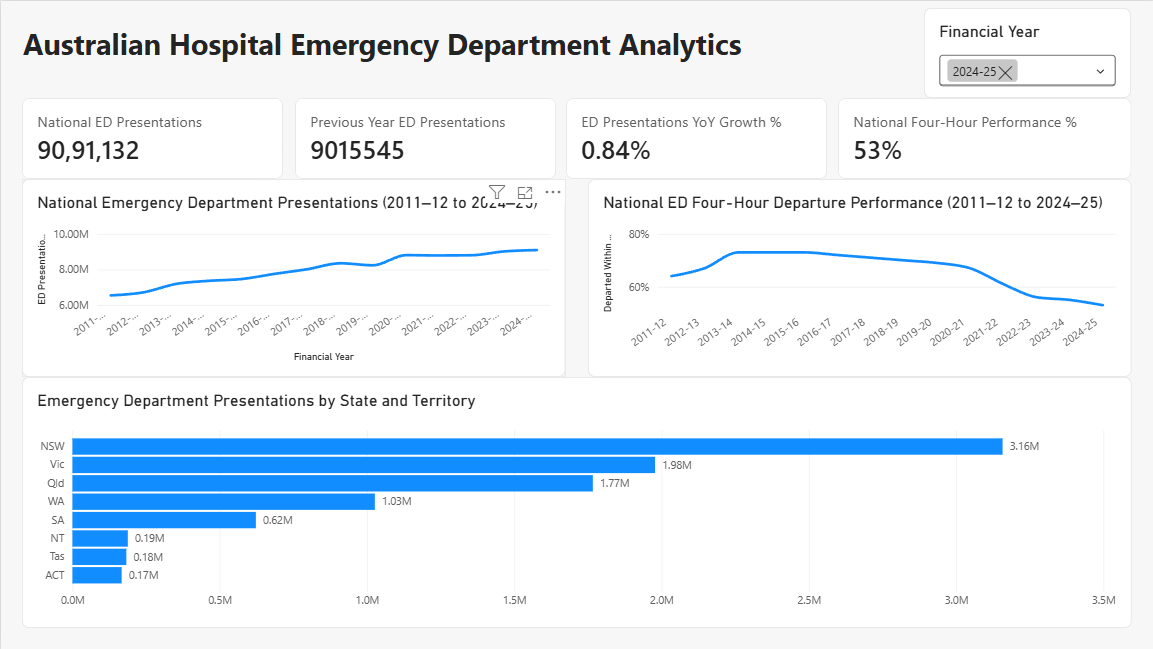

This screenshot's page, from the dashboard's own definition file:
{"tool":"powerbi","page":{"name":"ED Overview","canvas":[1280,720],"ordinal":0},"visuals":[{"type":"cardVisual","fields":{"Data":["ED_Presentations.National ED Presentations"]},"box":[23.8,107.5,290,90],"z":0},{"type":"listSlicer","fields":{"Values":["Dim_FinancialYear.Financial Year"]},"box":[1026,8,230,100],"z":1000},{"type":"cardVisual","fields":{"Data":["ED_Presentations.Previous Year ED Presentations"]},"box":[326.2,107.5,290,90],"z":2000},{"type":"cardVisual","fields":{"Data":["ED_Presentations.ED Presentations YoY Growth %"]},"box":[627.5,107.5,290,90],"z":3000},{"type":"lineChart","title":"National Emergency Department Presentations (2011–12 to 2024–25)","fields":{"Category":["Dim_FinancialYear.Financial Year"],"Y":["ED_Presentations.National ED Presentations"]},"box":[23.8,197.5,603.8,220],"z":4000},{"type":"clusteredBarChart","title":"Emergency Department Presentations by State and Territory","fields":{"Category":["ED_Presentations.state"],"Y":["ED_Presentations.State ED Presentations"]},"box":[23.8,417.5,1232.5,278.8],"z":5000},{"type":"cardVisual","fields":{"Data":["ED_FourHour.National Four-Hour Performance %"]},"box":[930,107.5,326,90],"z":6000},{"type":"lineChart","title":"National ED Four-Hour Departure Performance (2011–12 to 2024–25)","fields":{"Category":["Dim_FinancialYear.Financial Year"],"Y":["ED_FourHour.National Four-Hour Performance %"]},"box":[652.5,197.5,603.8,220],"z":7000},{"type":"textbox","box":[24,24,850,55],"z":8000}]}

Visuals, with their boxes in screenshot pixels (x1, y1, x2, y2), scaled from the page's 1280x720 canvas onto the 1153x649 screenshot:
cardVisual - ED_Presentations.National ED Presentations: Rect(21, 97, 283, 178)
listSlicer - Dim_FinancialYear.Financial Year: Rect(924, 7, 1131, 97)
cardVisual - ED_Presentations.Previous Year ED Presentations: Rect(294, 97, 555, 178)
cardVisual - ED_Presentations.ED Presentations YoY Growth %: Rect(565, 97, 826, 178)
"National Emergency Department Presentations (2011–12 to 2024–25)" lineChart: Rect(21, 178, 565, 376)
"Emergency Department Presentations by State and Territory" clusteredBarChart: Rect(21, 376, 1132, 628)
cardVisual - ED_FourHour.National Four-Hour Performance %: Rect(838, 97, 1131, 178)
"National ED Four-Hour Departure Performance (2011–12 to 2024–25)" lineChart: Rect(588, 178, 1132, 376)
textbox: Rect(22, 22, 787, 71)
